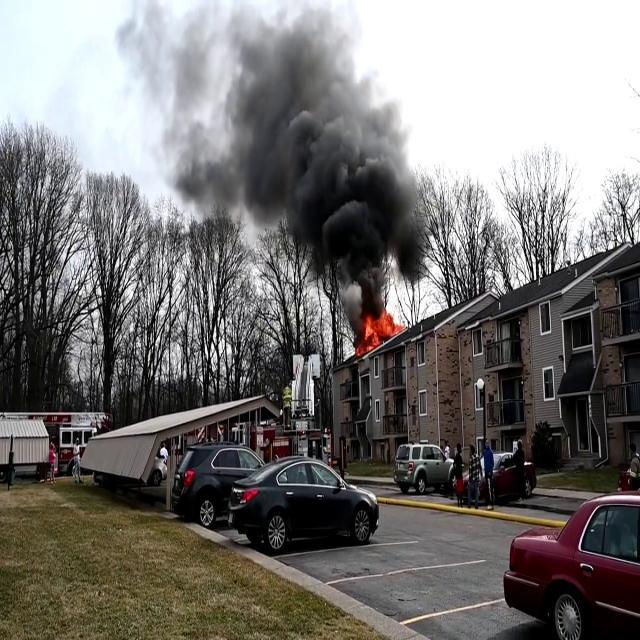Fire: (358, 307, 400, 353)
Smoke: (152, 1, 432, 304)
